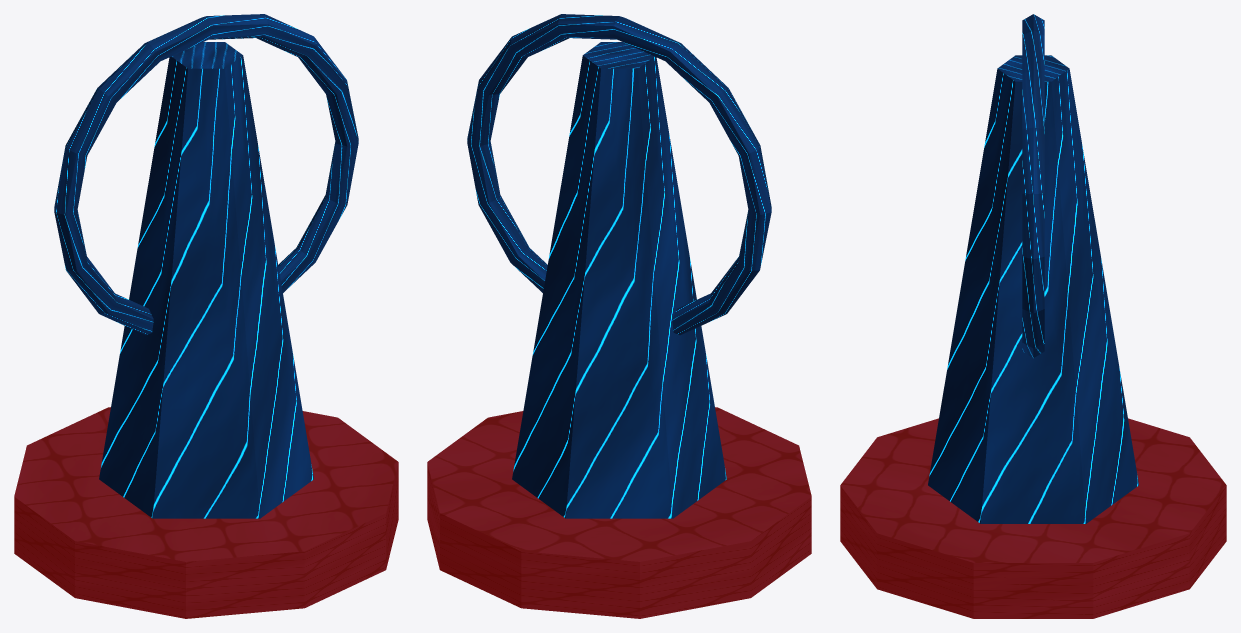
File: SM_FC_CheckpointObelisk.glb
3 views of the same model, side by side, from view 1: azimuth 30°, elevation 25°; view 2: azimuth 150°, elevation 25°; view 3: azimuth 270°, elevation 25° (orthographic).
Visible parts, largest first — view 1: SM_FC_CheckpointObelisk; view 2: SM_FC_CheckpointObelisk; view 3: SM_FC_CheckpointObelisk.
Boxes of the visible parts, left/top/right/bottom form: SM_FC_CheckpointObelisk: left=14, top=14, right=398, bottom=618; SM_FC_CheckpointObelisk: left=427, top=14, right=811, bottom=618; SM_FC_CheckpointObelisk: left=840, top=14, right=1226, bottom=618.
Bounding box in the file's own units: 1.43 × 2.19 × 1.5.
Materials: 2 (2 with a texture image).
